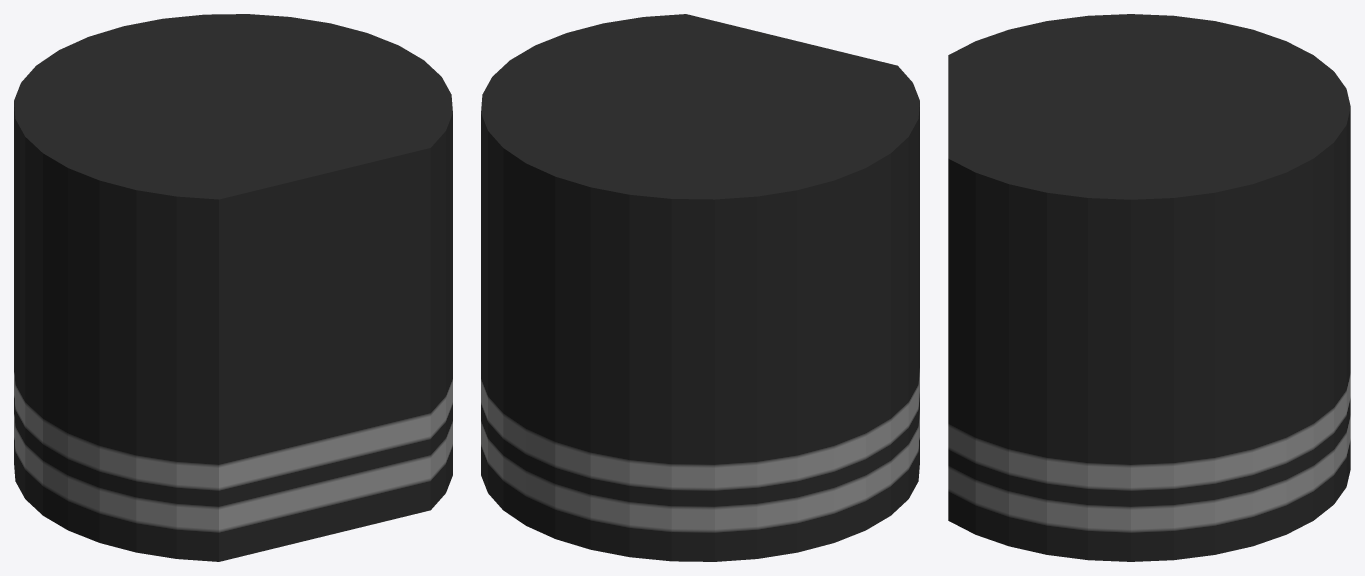
The model's file is Black Simple.glb.
3 renders of one model, left to right at view 1: azimuth 30°, elevation 25°; view 2: azimuth 150°, elevation 25°; view 3: azimuth 270°, elevation 25°, orthographic.
Visible parts, largest first — view 1: Flat; view 2: Flat; view 3: Flat.
Boxes of the visible parts, bbox=[...] form: Flat: bbox=[14, 14, 452, 561]; Flat: bbox=[481, 14, 919, 561]; Flat: bbox=[948, 14, 1350, 561].
Bounding box in the file's own units: 1.1 × 1 × 1.01.
2 materials, 2 textured.
